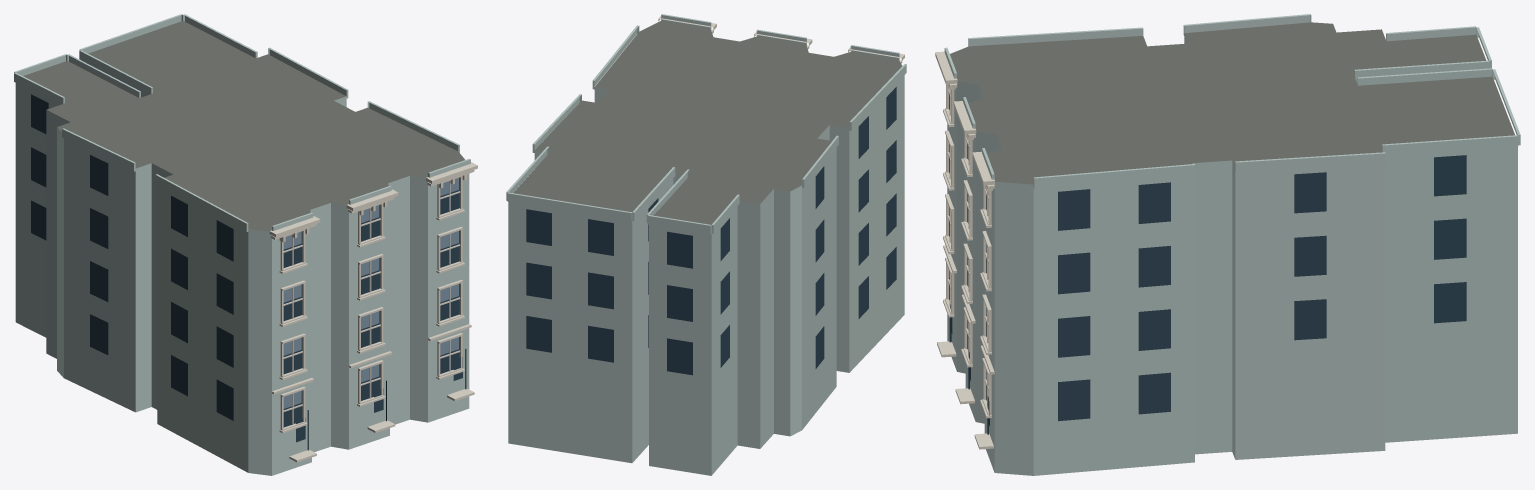
3 renders of one model, left to right at view 1: azimuth 30°, elevation 25°; view 2: azimuth 150°, elevation 25°; view 3: azimuth 270°, elevation 25°, orthographic. The views are drawn at different scales.
Visible parts, largest first — view 1: Footprint 0 / surface 2, Footprint 0 / surface 1, Inset glazing, Cornices and window frames, Facade bay volumes, Sky reflection panels; view 2: Footprint 0 / surface 2, Footprint 0 / surface 1, Inset glazing, Facade bay volumes, Cornices and window frames; view 3: Footprint 0 / surface 2, Footprint 0 / surface 1, Inset glazing, Facade bay volumes, Cornices and window frames.
Part boxes in pixels (x1,y1,x2,y2): Footprint 0 / surface 2: (15, 63, 469, 475); Footprint 0 / surface 1: (23, 21, 464, 231); Inset glazing: (31, 94, 462, 442); Cornices and window frames: (269, 162, 477, 462); Facade bay volumes: (14, 14, 470, 232); Sky reflection panels: (283, 178, 458, 408); Footprint 0 / surface 2: (508, 75, 904, 475); Footprint 0 / surface 1: (513, 21, 901, 224); Inset glazing: (526, 87, 896, 375); Facade bay volumes: (506, 14, 906, 234); Cornices and window frames: (658, 16, 904, 63); Footprint 0 / surface 2: (947, 34, 1517, 475); Footprint 0 / surface 1: (950, 22, 1514, 184); Inset glazing: (949, 94, 1466, 426); Facade bay volumes: (944, 14, 1520, 188); Cornices and window frames: (935, 51, 994, 449).
Size of the model in its own units: 17.14 by 14.51 by 25.78.
